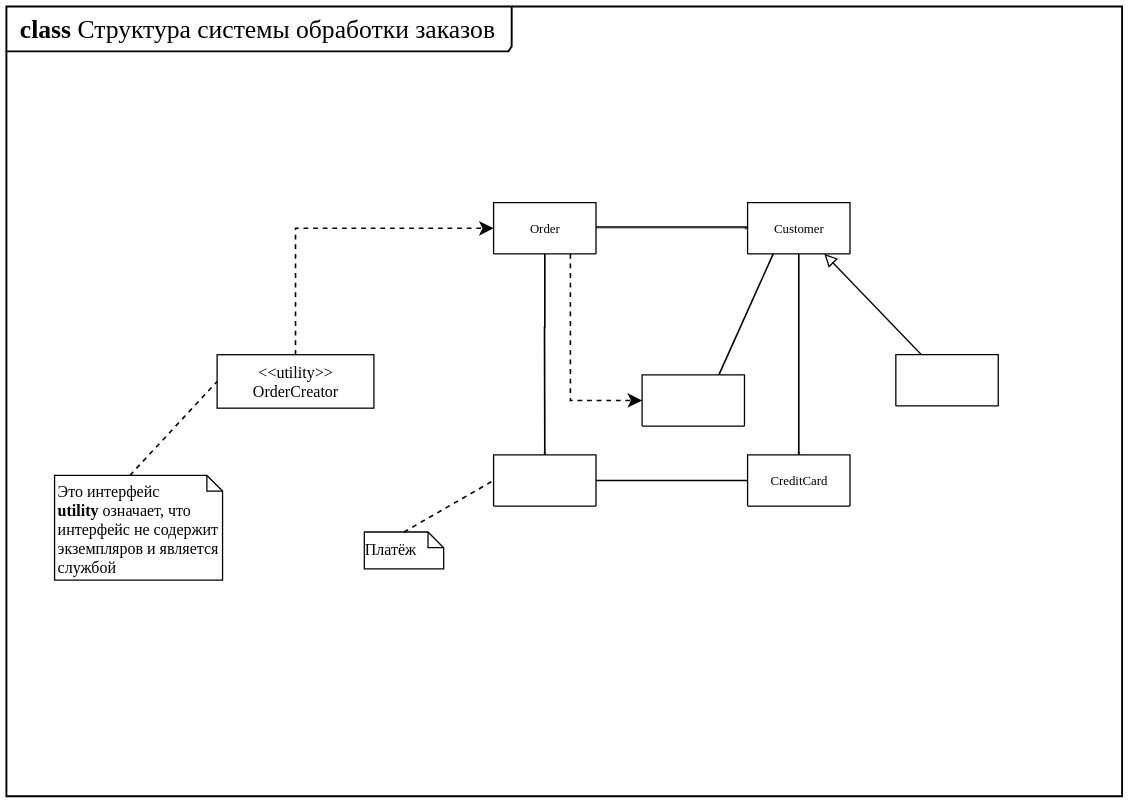
Image size: 1129x803. Some labels were removed from this diagram. Here are the shapes that lost their labels. From the top down, the centre of each, then its label:
At [693,400]: "Adress".
At [947,380]: "Vip Customer".
At [544,480]: "Payment".
